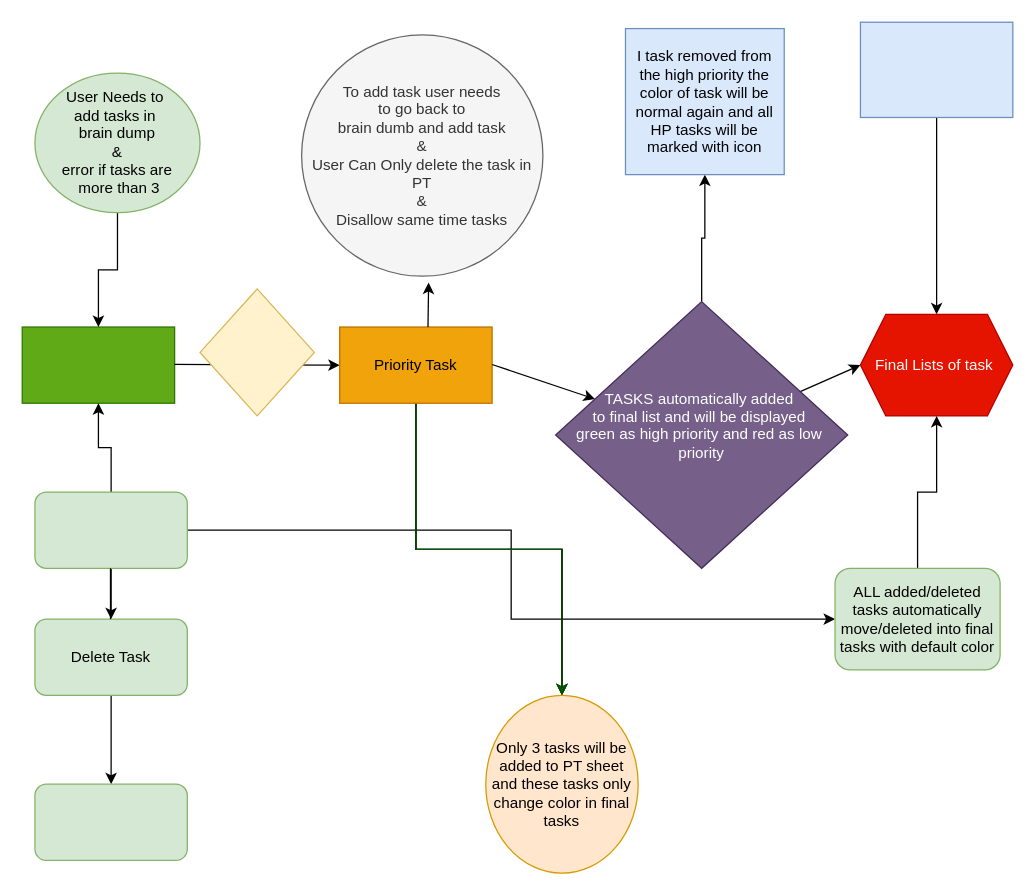
Image size: 1035x895. Some labels were removed from this diagram. The centre of each missing label's shape, as x and y in pixels:
Add Task: (x=110, y=529)
Brain Dump: (x=98, y=364)
MoveTask To PT BTN: (x=256, y=352)
the task will automatically be crossed when passed the present time: (x=936, y=69)
Time and date of task: (x=110, y=821)
